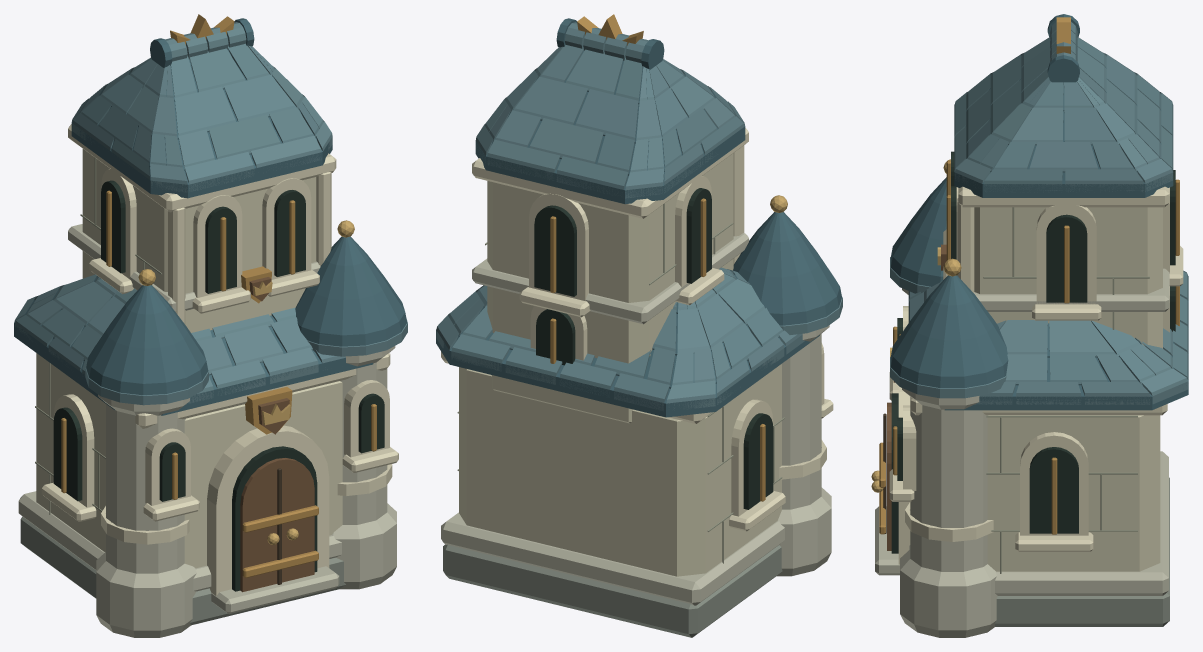
Rendered from house_3.glb.
3 renders of one model, left to right at view 1: azimuth 30°, elevation 25°; view 2: azimuth 150°, elevation 25°; view 3: azimuth 270°, elevation 25°, orthographic. The views are drawn at different scales.
Visible parts, largest first — view 1: Stone, Roof, Timber, Metal; view 2: Stone, Roof, Metal; view 3: Stone, Roof, Metal, Timber.
Boxes of the visible parts, x1,y1,x2,y2 form: Stone: (18, 124, 398, 637); Roof: (14, 18, 407, 415); Timber: (240, 277, 314, 592); Metal: (61, 14, 376, 577); Stone: (441, 128, 833, 637); Roof: (436, 18, 842, 417); Metal: (550, 14, 787, 501); Stone: (875, 151, 1183, 637); Roof: (890, 14, 1188, 410); Metal: (871, 17, 1179, 534); Timber: (883, 244, 946, 550).
Size of the model in its own units: 3.11 by 5.23 by 2.73.
